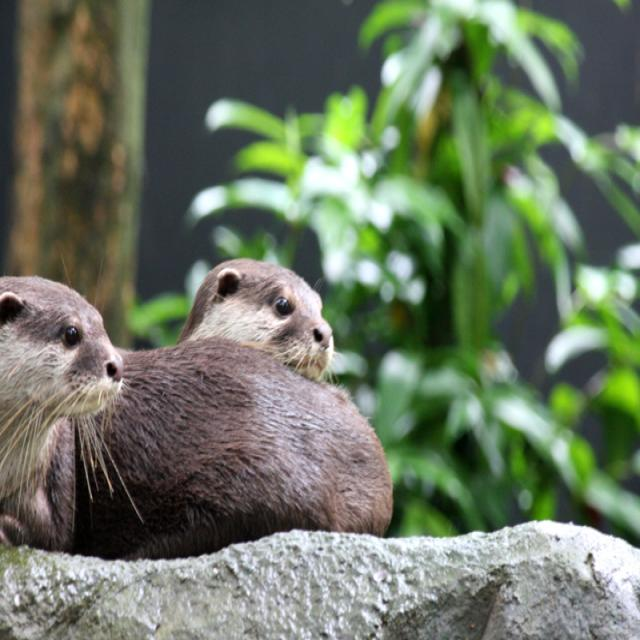otter: (1, 274, 393, 533), (182, 260, 333, 384)
